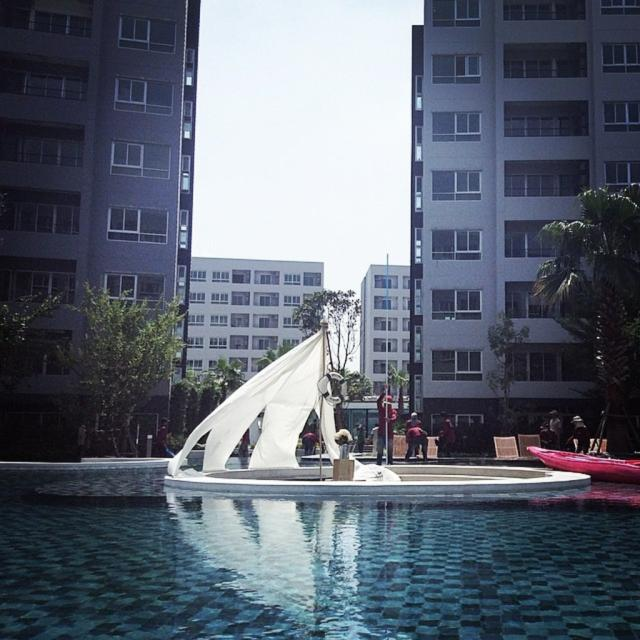Boat: (528, 446, 639, 474)
